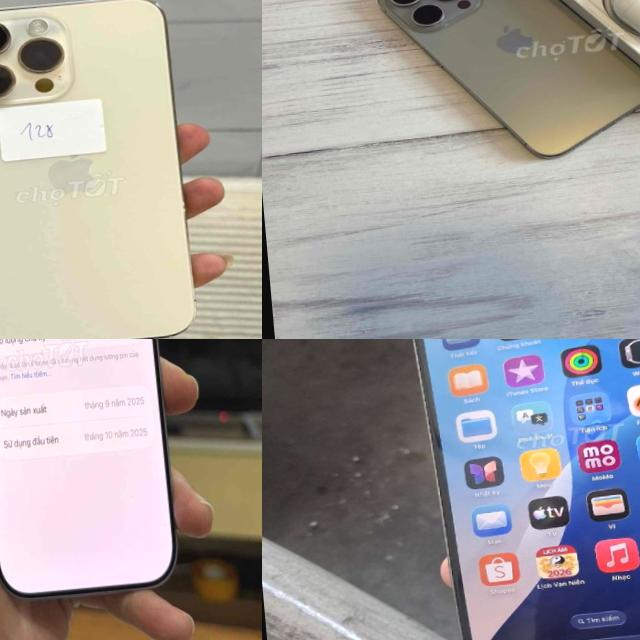gen_12_13: (401, 339, 640, 640), (362, 0, 640, 180)
gen_14: (0, 0, 220, 339)
gen_17: (0, 339, 183, 615)
